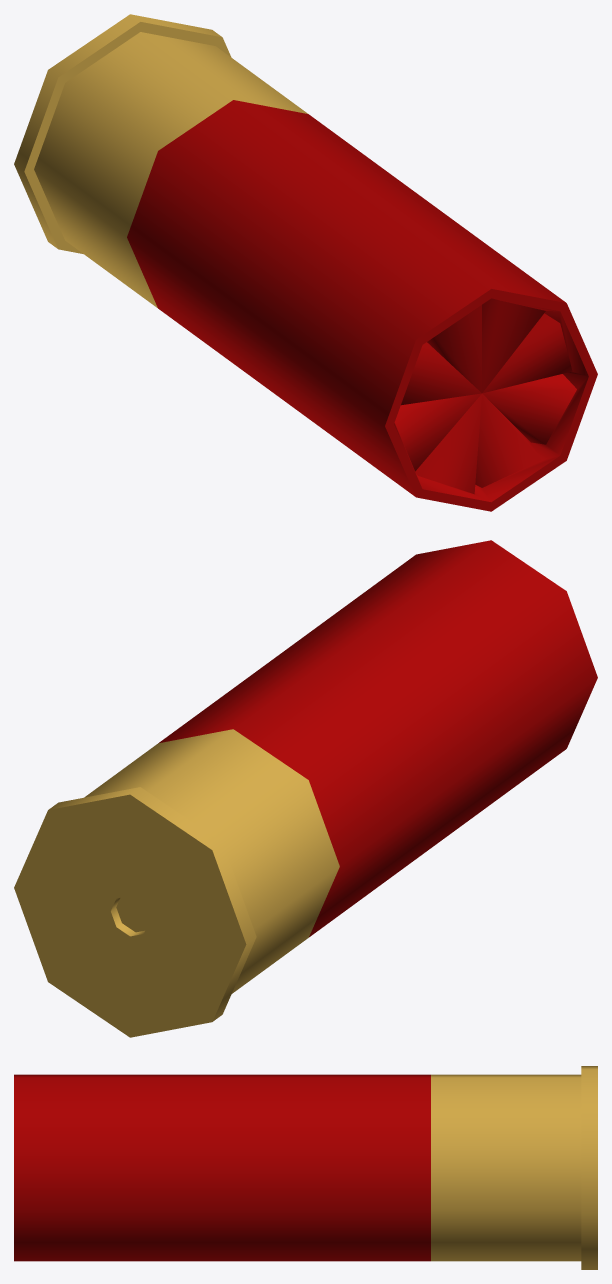
Rendered from Bullet12Gauge.FBX.
3 renders of one model, top to bottom at view 1: azimuth 30°, elevation 25°; view 2: azimuth 150°, elevation 25°; view 3: azimuth 270°, elevation 25°, orthographic. The views are drawn at different scales.
Visible parts, largest first — view 1: Bullet12Gauge; view 2: Bullet12Gauge; view 3: Bullet12Gauge.
Part boxes in pixels (<box>): Bullet12Gauge: <box>14,14,597,511</box>; Bullet12Gauge: <box>14,540,597,1037</box>; Bullet12Gauge: <box>14,1066,597,1269</box>.
Bounding box in the file's own units: 2.6 × 2.6 × 7.
